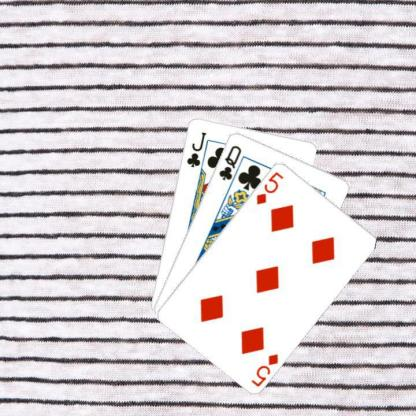5D: (253, 168, 285, 206), (248, 350, 280, 388)
JC: (184, 129, 207, 168)
QC: (216, 142, 243, 182)
